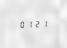one: (25, 20, 31, 28), (39, 19, 45, 27)
two: (32, 20, 38, 27)
zero: (18, 20, 24, 28)
